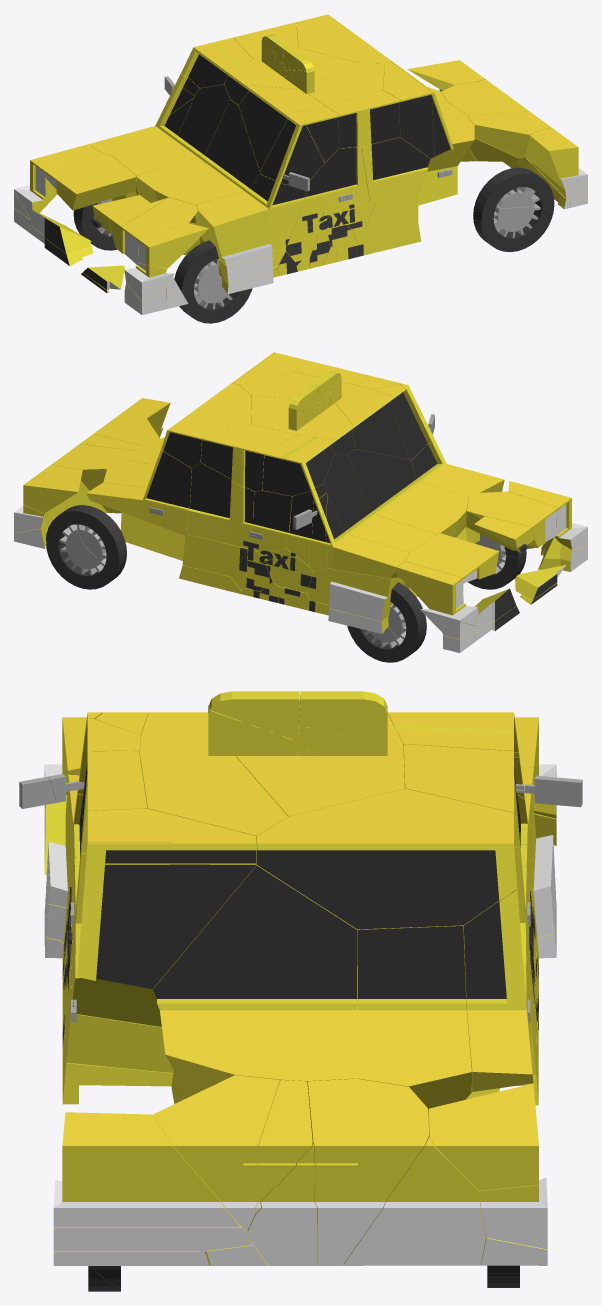
The model's file is Taxi Shatter.fbx.
3 renders of one model, top to bottom at view 1: azimuth 30°, elevation 25°; view 2: azimuth 150°, elevation 25°; view 3: azimuth 270°, elevation 25°, orthographic. The views are drawn at different scales.
Visible parts, largest first — view 1: Cube.051_cell.005, Cube.051_cell.059, Cube.051_cell.084, Cube.051_cell.039, Cube.051_cell.048, Cube.051_cell.001, Cube.051_cell.027, Cube.051_cell.013, Cube.051_cell.002, Cube.051_cell.094, Cube.051_cell, Cube.051_cell.047 (+51 smaller); view 2: Cube.051_cell.059, Cube.051_cell.096, Cube.051_cell.014, Cube.051_cell.084, Cube.051_cell.094, Cube.051_cell.003, Cube.051_cell.076, Cube.051_cell.001, Cube.051_cell.016, Cube.051_cell.092, Cube.051_cell.035, Cube.051_cell.047 (+50 smaller); view 3: Cube.051_cell.058, Cube.051_cell.094, Cube.051_cell.015, Cube.051_cell.037, Cube.051_cell.055, Cube.051_cell.068, Cube.051_cell.096, Cube.051_cell.089, Cube.051_cell.045, Cube.051_cell.049, Cube.051_cell.038, Cube.051_cell.047 (+31 smaller).
Boxes of the visible parts, bbox=[...] form: Cube.051_cell.005: bbox=[195, 174, 305, 266]; Cube.051_cell.059: bbox=[136, 100, 260, 223]; Cube.051_cell.084: bbox=[112, 84, 231, 197]; Cube.051_cell.039: bbox=[40, 150, 136, 210]; Cube.051_cell.048: bbox=[361, 137, 430, 201]; Cube.051_cell.001: bbox=[238, 85, 324, 171]; Cube.051_cell.027: bbox=[326, 90, 400, 148]; Cube.051_cell.013: bbox=[383, 62, 434, 158]; Cube.051_cell.002: bbox=[305, 147, 369, 211]; Cube.051_cell.094: bbox=[296, 14, 391, 77]; Cube.051_cell: bbox=[260, 110, 324, 184]; Cube.051_cell.047: bbox=[224, 48, 355, 105]; Cube.051_cell.059: bbox=[348, 449, 468, 537]; Cube.051_cell.096: bbox=[86, 450, 191, 535]; Cube.051_cell.014: bbox=[186, 463, 254, 548]; Cube.051_cell.084: bbox=[324, 454, 436, 588]; Cube.051_cell.094: bbox=[161, 383, 251, 468]; Cube.051_cell.003: bbox=[199, 424, 296, 491]; Cube.051_cell.076: bbox=[307, 568, 405, 621]; Cube.051_cell.001: bbox=[335, 385, 409, 459]; Cube.051_cell.016: bbox=[395, 561, 478, 632]; Cube.051_cell.092: bbox=[324, 496, 409, 578]; Cube.051_cell.035: bbox=[262, 437, 334, 495]; Cube.051_cell.047: bbox=[251, 396, 355, 454]; Cube.051_cell.058: bbox=[153, 864, 356, 1097]; Cube.051_cell.094: bbox=[257, 788, 517, 929]; Cube.051_cell.015: bbox=[357, 925, 471, 1112]; Cube.051_cell.037: bbox=[77, 842, 256, 988]; Cube.051_cell.055: bbox=[307, 1078, 429, 1265]; Cube.051_cell.068: bbox=[53, 1112, 240, 1226]; Cube.051_cell.096: bbox=[463, 889, 533, 1091]; Cube.051_cell.089: bbox=[343, 1134, 485, 1265]; Cube.051_cell.045: bbox=[153, 1075, 279, 1231]; Cube.051_cell.049: bbox=[429, 1083, 538, 1190]; Cube.051_cell.038: bbox=[139, 750, 288, 864]; Cube.051_cell.047: bbox=[236, 714, 404, 816].
Bounding box in the file's own units: 381 × 168 × 207.
